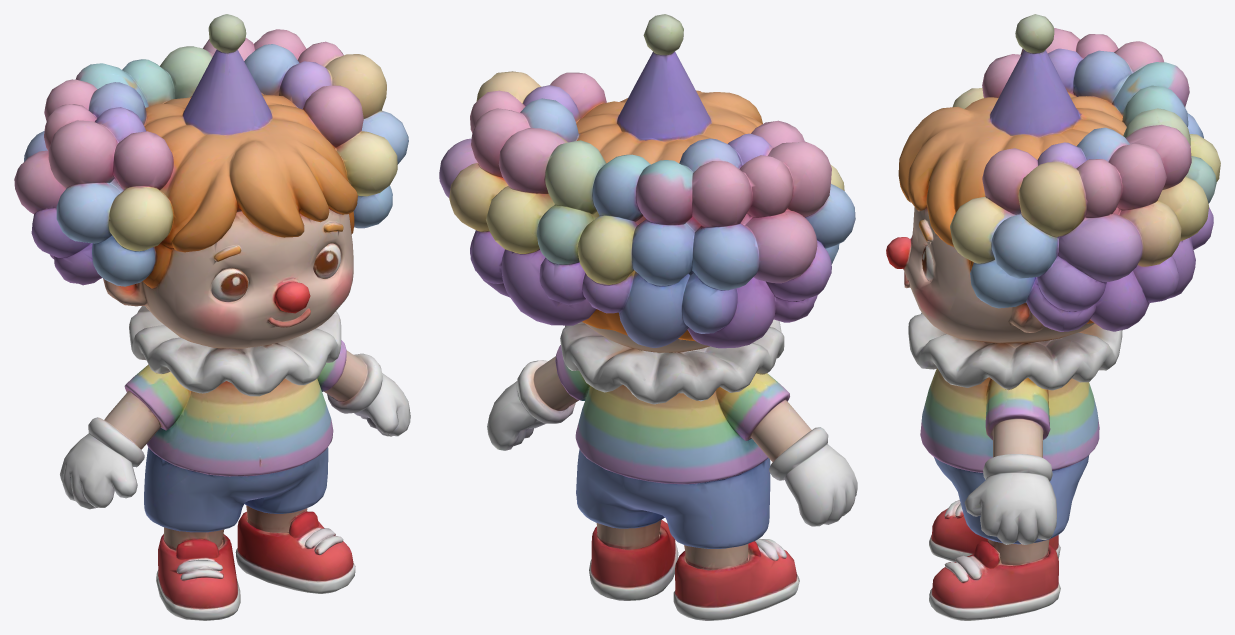
The model's file is npc_clown.glb.
The picture shows the model from 3 angles, left to right: view 1: azimuth 30°, elevation 25°; view 2: azimuth 150°, elevation 25°; view 3: azimuth 270°, elevation 25°; orthographic projection. The views are drawn at different scales.
Visible parts, largest first — view 1: node_0; view 2: node_0; view 3: node_0.
Part boxes in pixels (left/top/right/bottom): node_0: left=14, top=14, right=410, bottom=620; node_0: left=439, top=14, right=857, bottom=620; node_0: left=886, top=14, right=1220, bottom=620.
Size of the model in its own units: 0.7151 by 1.09 by 0.5886.
1 material, 1 textured.
